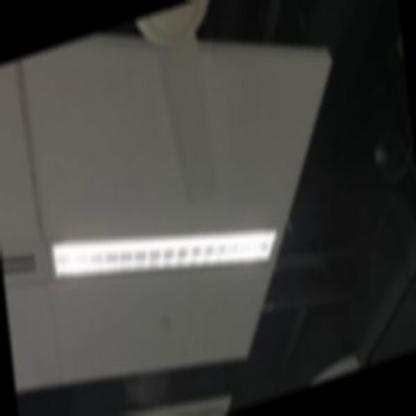light_on: (42, 152, 288, 353)
